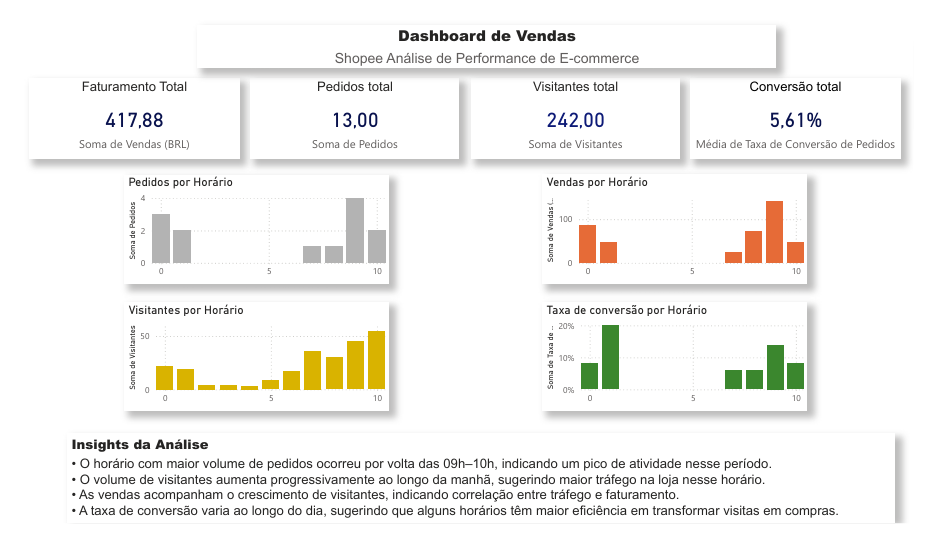

The page's visual inventory and layout, read from the dashboard file:
{"tool":"powerbi","page":{"name":"Página 1","canvas":[1280,720],"ordinal":0},"visuals":[{"type":"columnChart","title":"Pedidos por Horário","fields":{"Y":["Sum(Pedido Feito.Pedidos)"],"Category":["Pedido Feito.Hora"]},"box":[158.3,225,376,155],"z":0},{"type":"columnChart","title":"Visitantes por Horário","fields":{"Y":["Sum(Pedido Feito.Visitantes)"],"Category":["Pedido Feito.Hora"]},"box":[158.3,406,375.7,154.2],"z":1000},{"type":"columnChart","title":"Taxa de conversão por Horário","fields":{"Y":["Sum(Pedido Feito.Taxa de Conversão de Pedidos)"],"Category":["Pedido Feito.Hora"]},"box":[752.9,406,377.1,154.2],"z":2000},{"type":"columnChart","title":"Vendas por Horário","fields":{"Y":["Sum(Pedido Feito.Vendas (BRL))"],"Category":["Pedido Feito.Hora"]},"box":[752.9,224.3,377.1,155.5],"z":3000},{"type":"card","title":"Faturamento Total","fields":{"Values":["Sum(Pedido Feito.Vendas (BRL))"]},"box":[22,88.1,298.7,114.2],"z":4000},{"type":"card","title":"Pedidos total","fields":{"Values":["Sum(Pedido Feito.Pedidos)"]},"box":[337.2,88.1,297.3,114.2],"z":5000},{"type":"card","title":"Visitantes total","fields":{"Values":["Sum(Pedido Feito.Visitantes)"]},"box":[651,88.1,297.3,114.2],"z":6000},{"type":"card","title":"Conversão total","fields":{"Values":["Avg(Pedido Feito.Taxa de Conversão de Pedidos)"]},"box":[963.4,88.1,298.7,114.2],"z":7000},{"type":"textbox","title":"Insights da Análise","box":[76.7,593.3,1178.3,126.7],"z":8000},{"type":"textbox","title":"Dashboard de Vendas ","box":[261.7,11.7,823.3,61.7],"z":9000}]}

Visuals, with their boxes on the page's 1280x720 design canvas (x1, y1, x2, y2). These are canvas units, not pixel positions in the 927x538 screenshot, which may show the page scaled, cropped or inside an application window:
"Pedidos por Horário" columnChart: <box>158,225,534,380</box>
"Visitantes por Horário" columnChart: <box>158,406,534,560</box>
"Taxa de conversão por Horário" columnChart: <box>753,406,1130,560</box>
"Vendas por Horário" columnChart: <box>753,224,1130,380</box>
"Faturamento Total" card: <box>22,88,321,202</box>
"Pedidos total" card: <box>337,88,634,202</box>
"Visitantes total" card: <box>651,88,948,202</box>
"Conversão total" card: <box>963,88,1262,202</box>
"Insights da Análise" textbox: <box>77,593,1255,720</box>
"Dashboard de Vendas " textbox: <box>262,12,1085,73</box>
